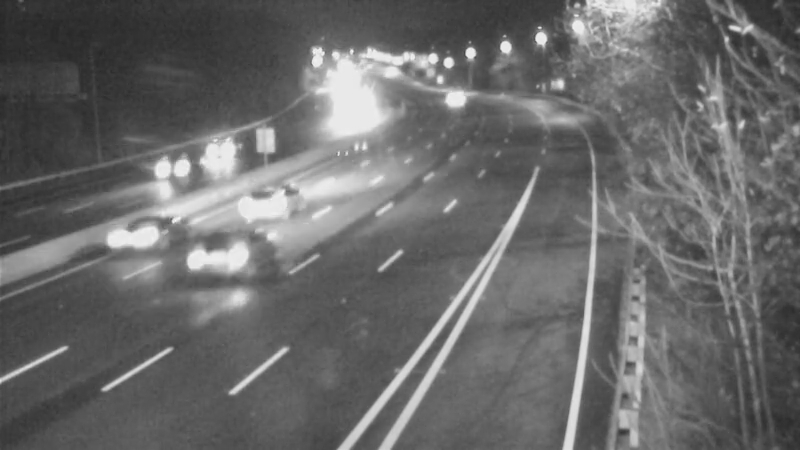vehicle: (230, 160, 310, 240), (101, 194, 181, 274), (169, 217, 249, 297), (126, 126, 206, 206), (434, 73, 484, 123), (195, 120, 245, 170)
